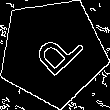P_SW: (21, 21, 84, 83)
